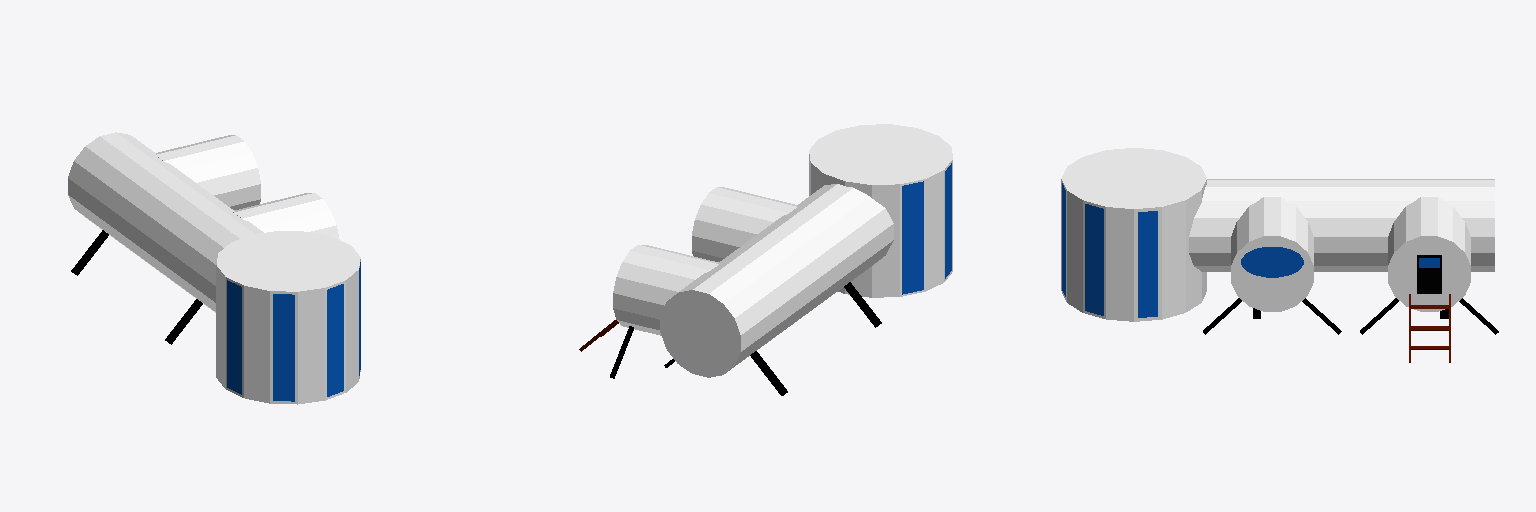
File: 4people.obj
The picture shows the model from 3 angles: view 1: azimuth 30°, elevation 25°; view 2: azimuth 150°, elevation 25°; view 3: azimuth 270°, elevation 25°; orthographic projection.
Visible parts, largest first — view 1: Cylinder.001; view 2: Cylinder.001; view 3: Cylinder.001.
Part boxes in pixels (x1,y1,x2,y2): Cylinder.001: (68,132,360,404); Cylinder.001: (579,124,952,395); Cylinder.001: (1061,148,1498,362).
Size of the model in its own units: 5.04 by 2.7 by 9.23.